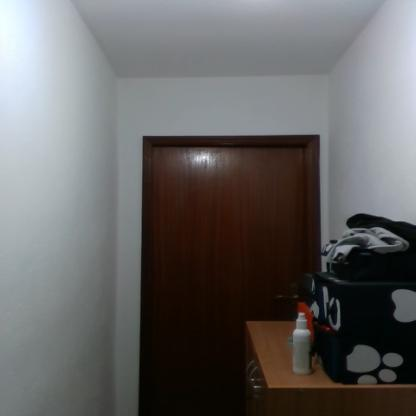closed: (134, 121, 336, 407)
